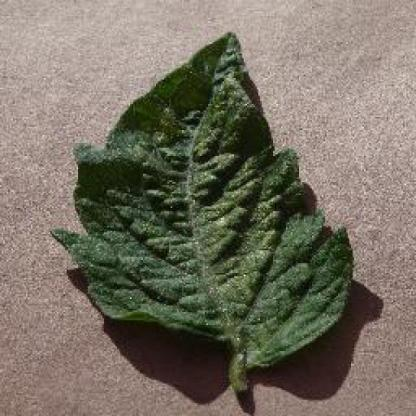Strawberry_Blossom_Blight: (178, 238, 222, 296), (198, 150, 246, 191), (233, 240, 278, 276), (99, 139, 143, 166)
